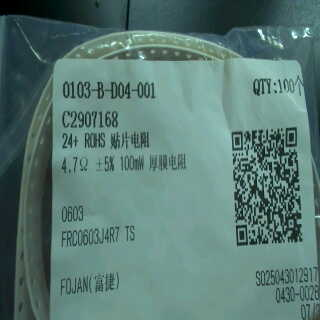4.7R: (58, 154, 93, 179)
